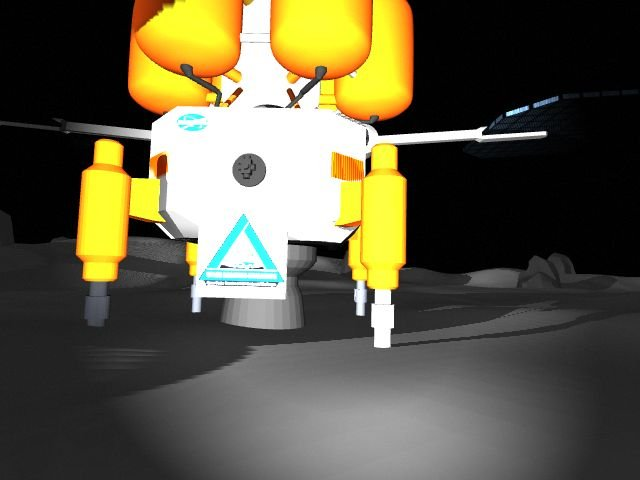basemarker: (198, 213, 285, 291)
